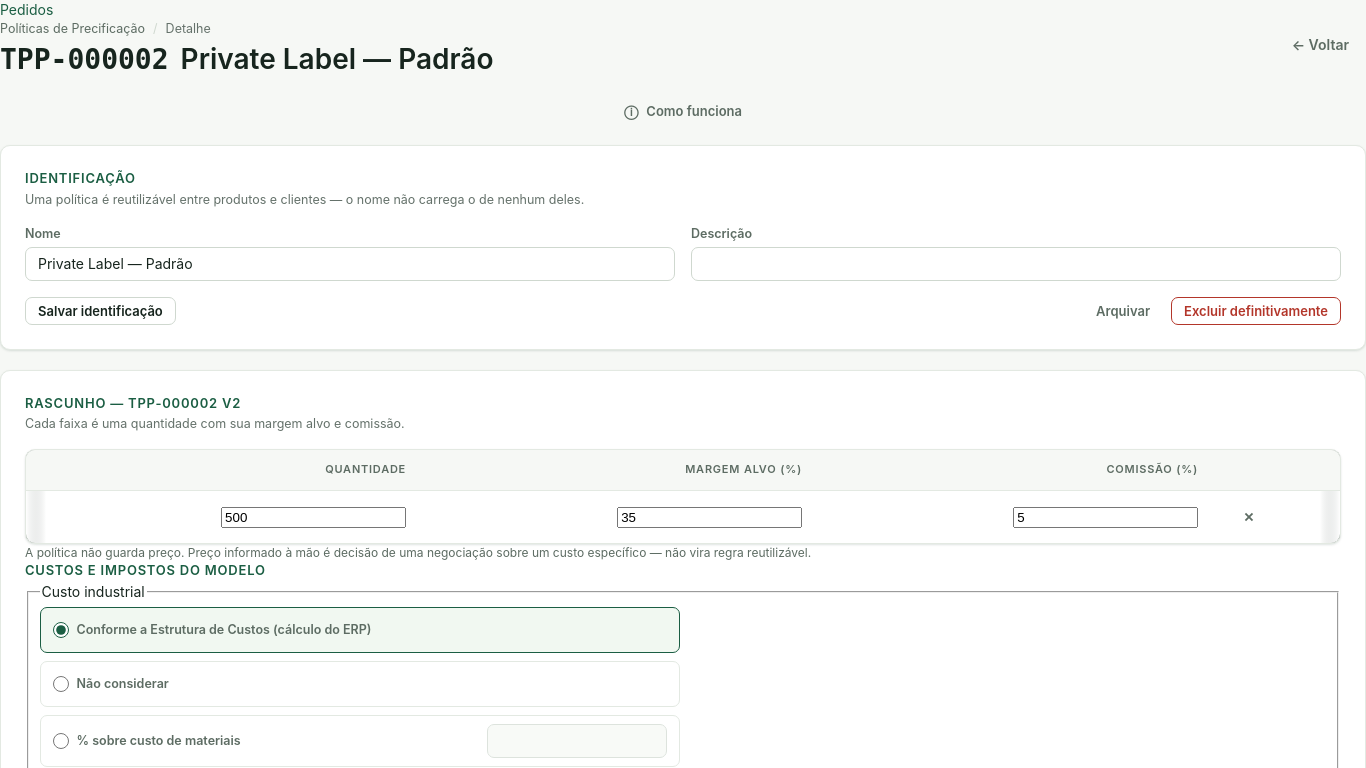
Política de Precificação — guarda de alterações não salvas › alterar a margem alvo de uma faixa pergunta antes de sair
expect the field labelled "Nome" holds "Private Label — Padrão": met, box [25,247,675,281]
Replace the text in the field named "Margem alvo" with "40" at (710, 517), box [617,507,802,528]
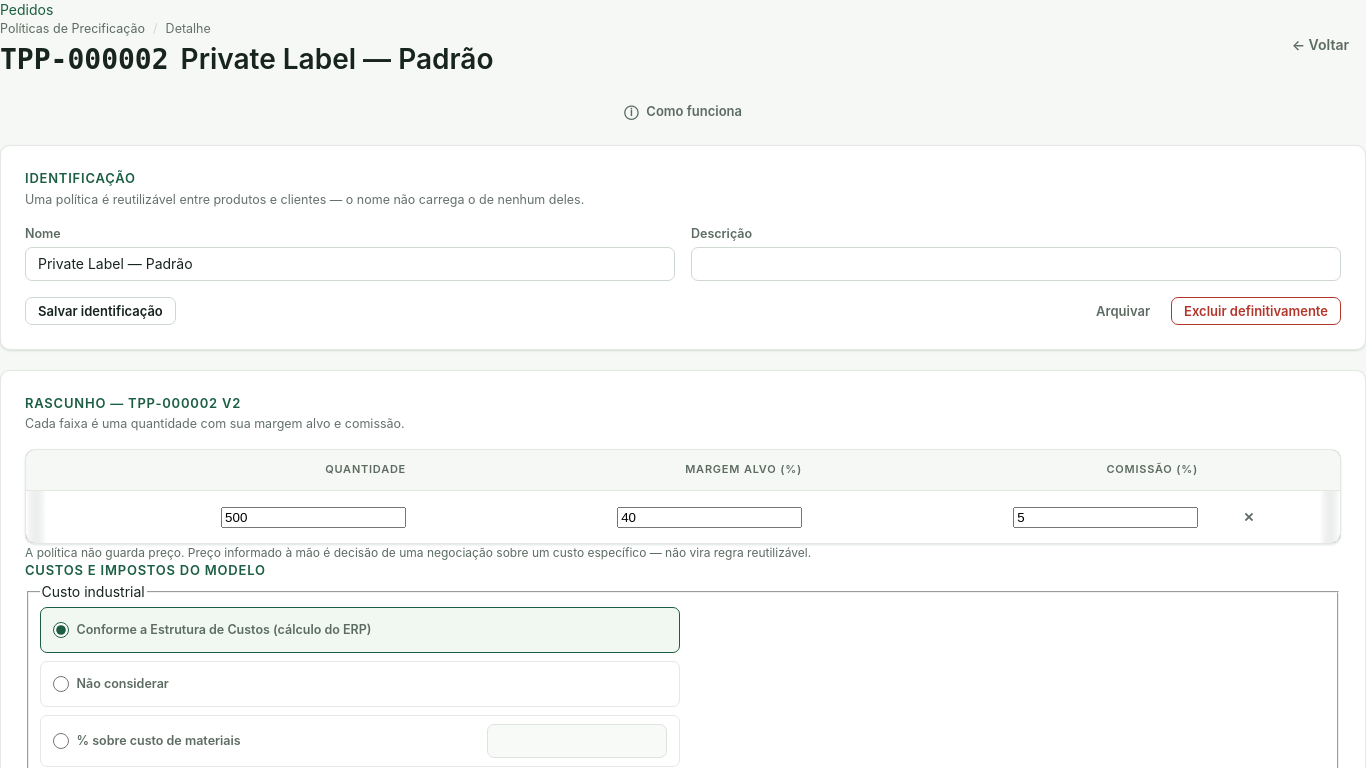
Click the link "Pedidos".
click(27, 10)  # box [0,1,53,18]
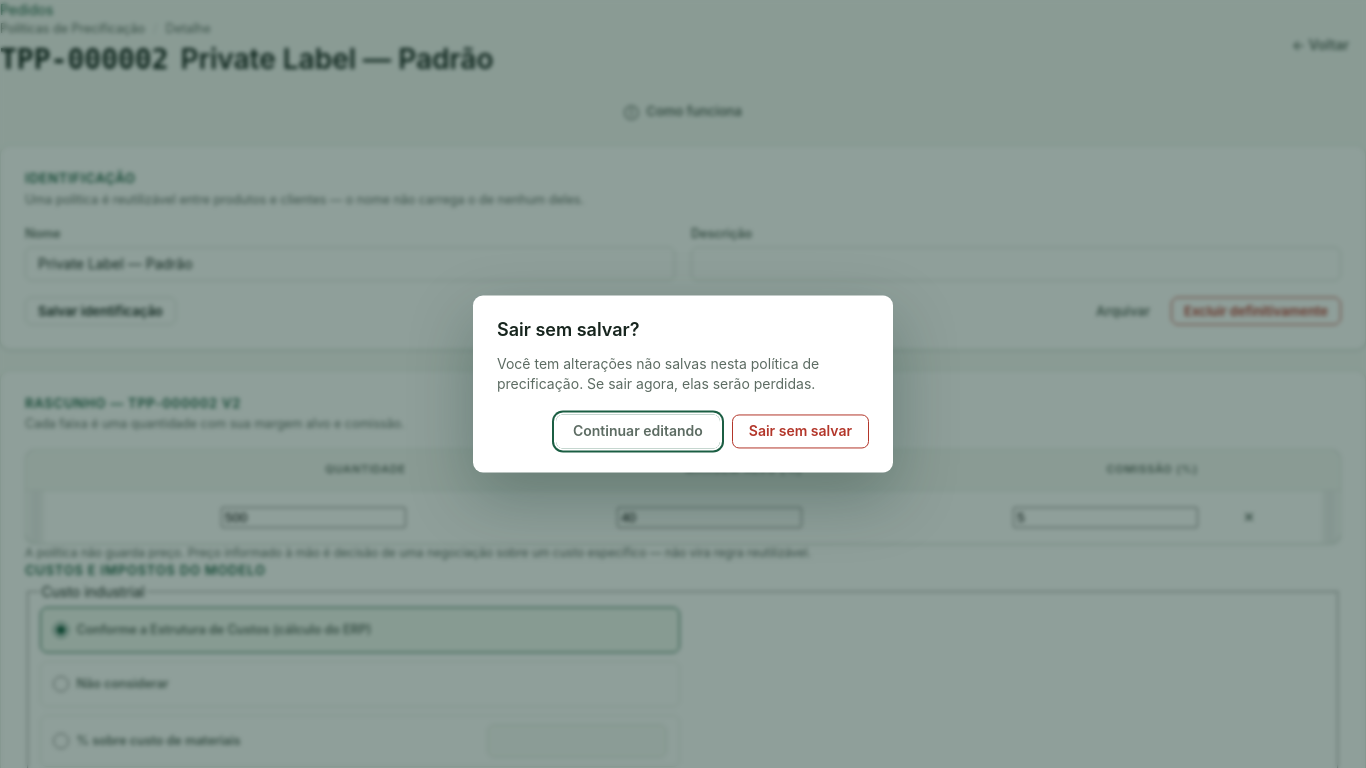
expect the heading "Sair sem salvar?" is shown: met, box [497,320,640,340]
expect the text "alterações não salvas nesta política de precificação" is shown: met, box [497,354,869,395]
